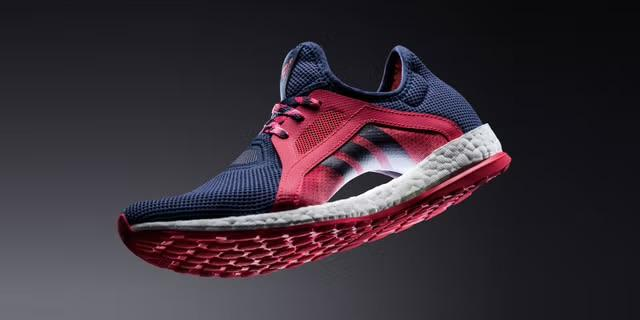adidas logo: (316, 117, 423, 189)
